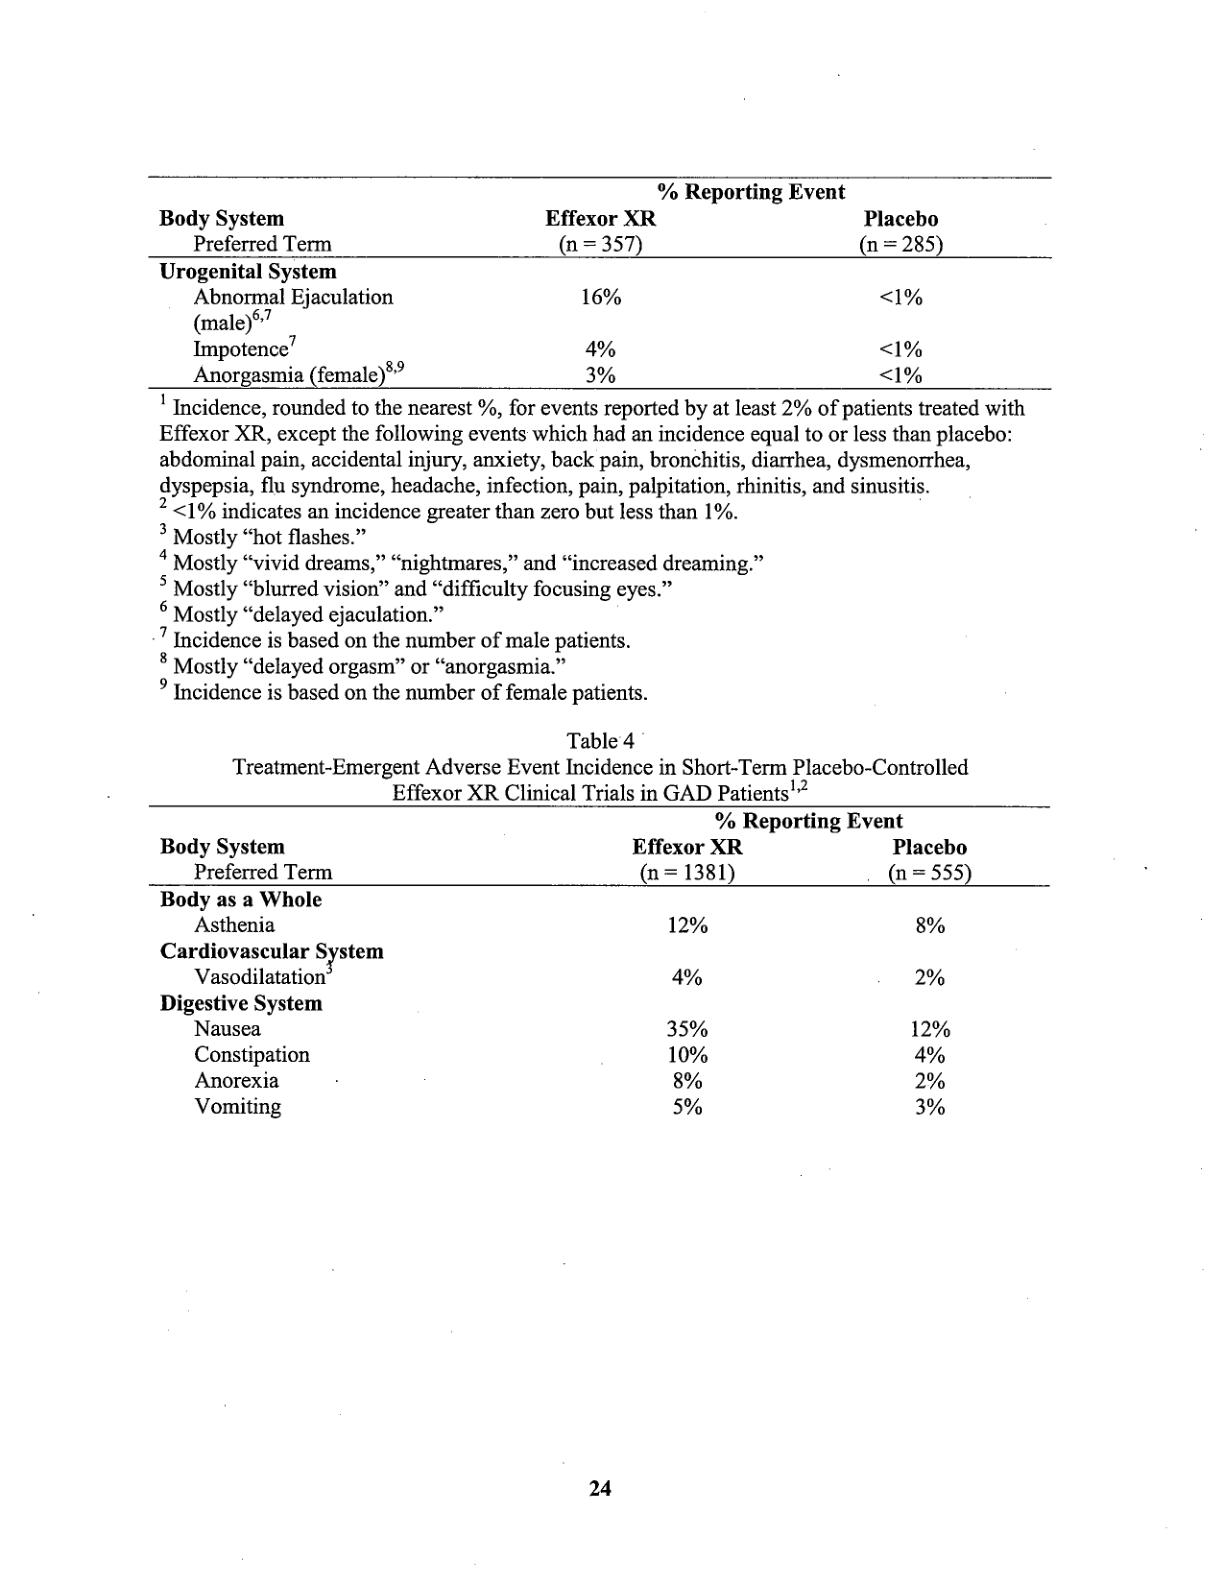partial_lined_merged_cells: (148, 804, 1056, 1124), (147, 174, 1053, 390)
